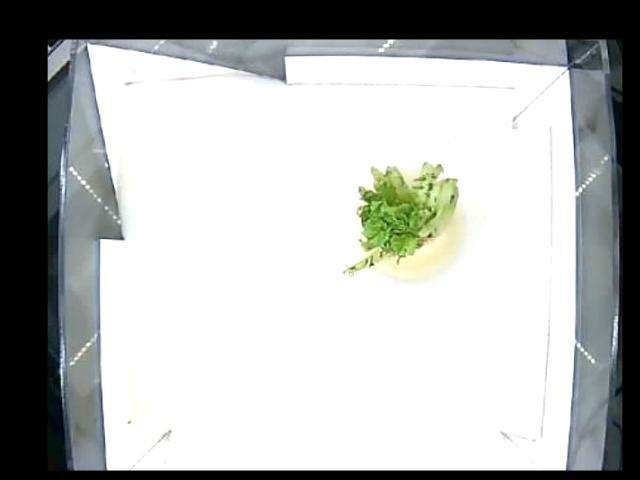Mooli: (341, 160, 458, 282)
